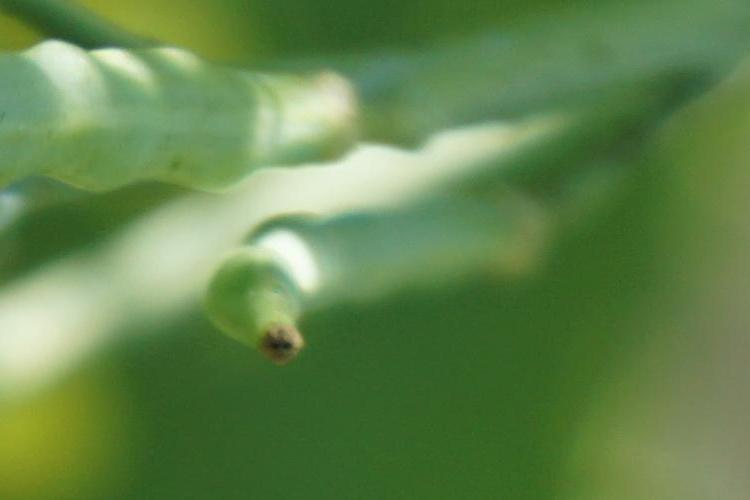pod: (172, 164, 568, 381)
